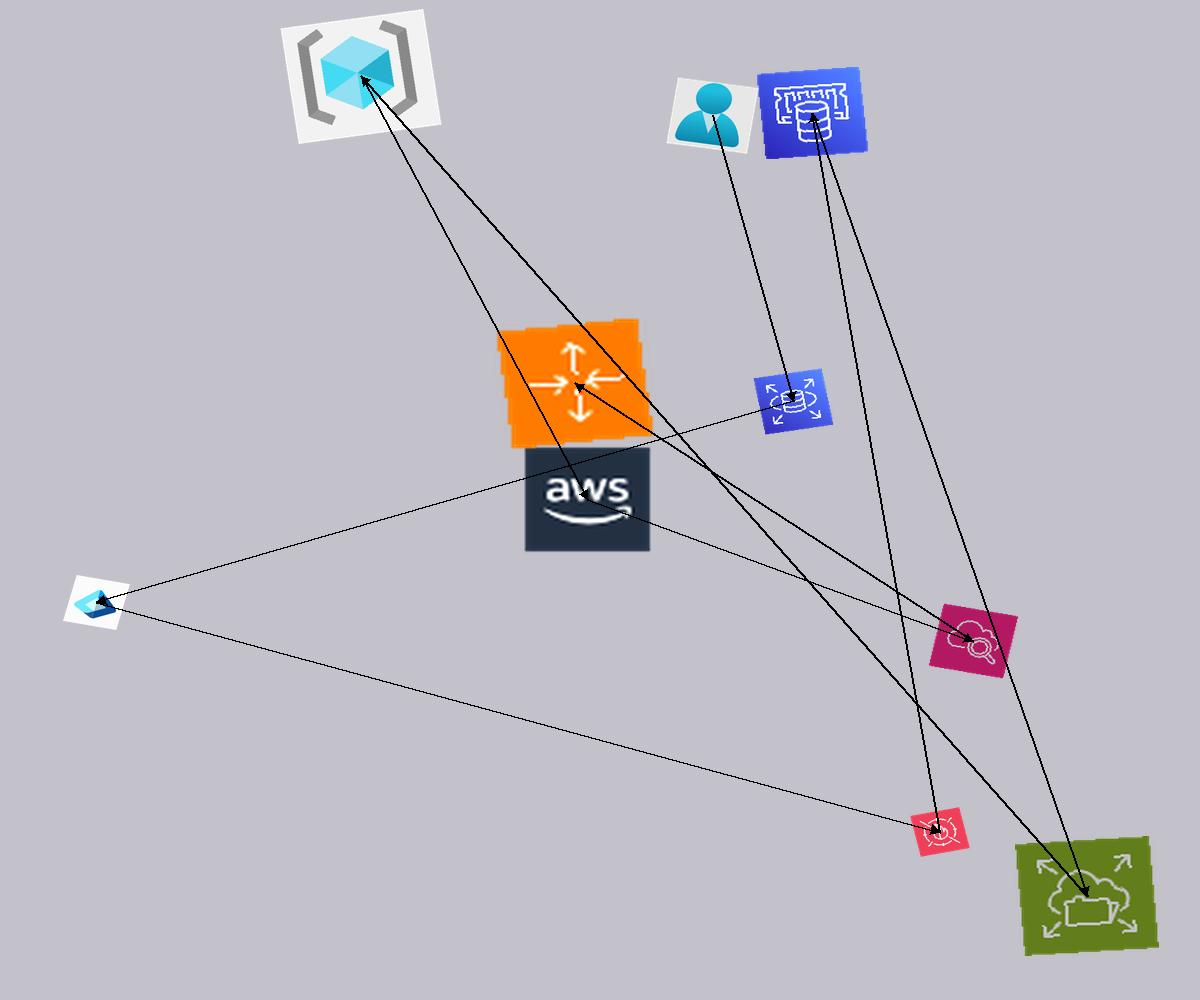AWS-Cloud-logo: (522, 445, 653, 554)
AWS-CloudWatch: (928, 603, 1019, 679)
AWS-EFS: (1015, 836, 1159, 956)
AWS-ElastiCache: (756, 66, 869, 160)
AWS-RDS: (753, 368, 834, 435)
AWS-Scaling-group: (494, 316, 656, 451)
AWS-WAF: (910, 807, 970, 857)
Azure_microsoft_entra: (63, 575, 130, 630)
Azure_resource_group: (280, 9, 442, 144)
Azure_users: (666, 77, 759, 154)
